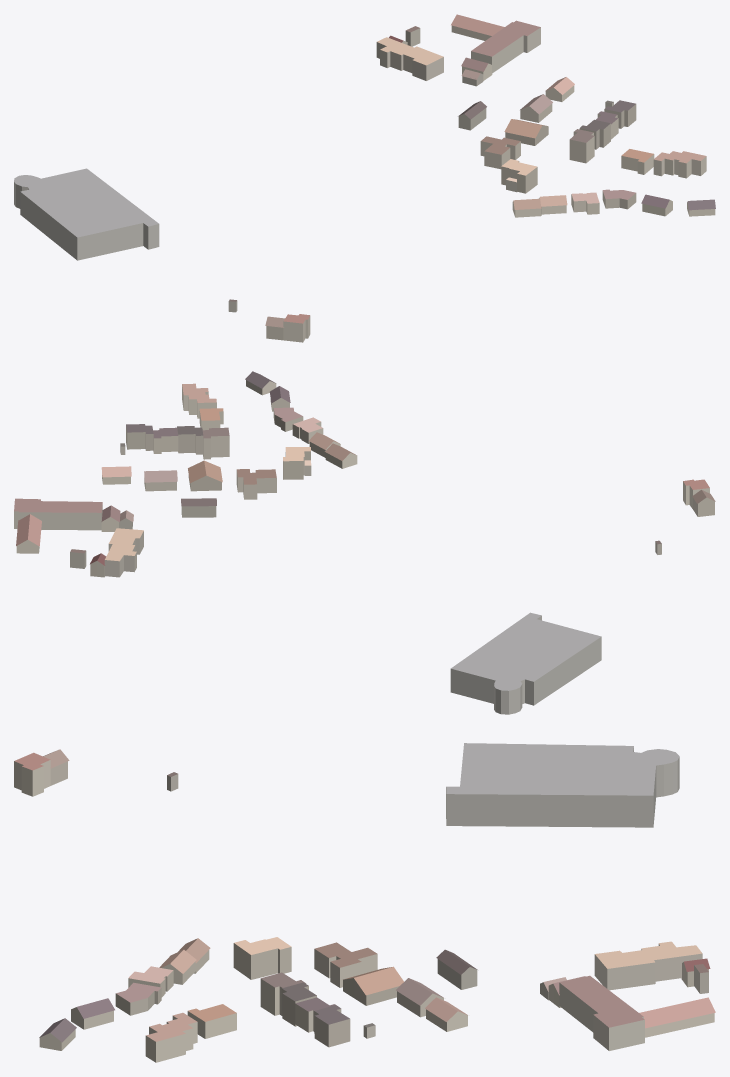
3 renders of one model, top to bottom at view 1: azimuth 30°, elevation 25°; view 2: azimuth 150°, elevation 25°; view 3: azimuth 270°, elevation 25°, orthographic. The views are drawn at different scales.
Visible parts, largest first — view 1: tuile; view 2: tuile; view 3: tuile.
Boxes of the visible parts, x1,y1,x2,y2 form: tuile: [14, 14, 715, 342]; tuile: [14, 371, 715, 714]; tuile: [14, 743, 715, 1062].
Bounding box in the file's own units: 281 × 35.87 × 239.
